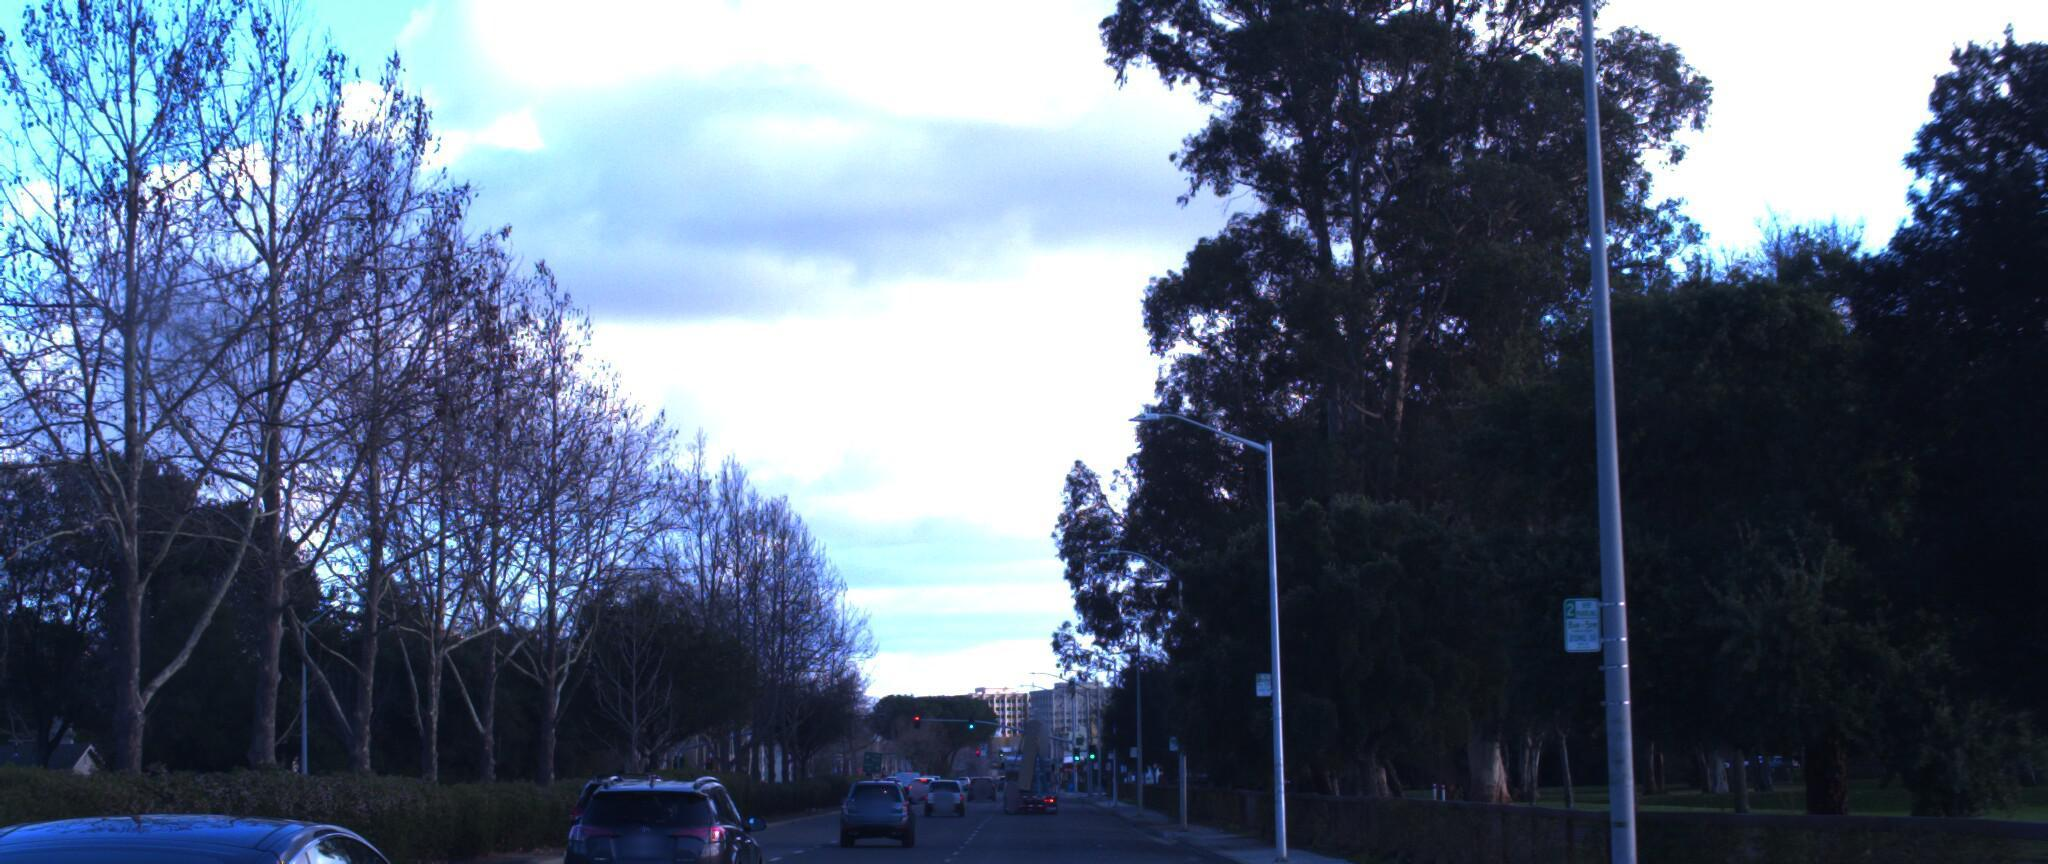car: (0, 790, 507, 864), (559, 758, 775, 864), (842, 764, 923, 827)
